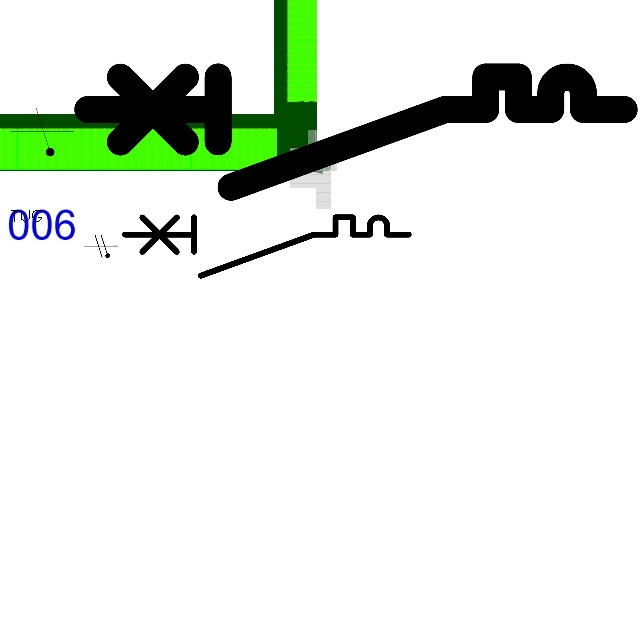interruptor_termomagnetico: (73, 63, 638, 201), (117, 210, 416, 283)
